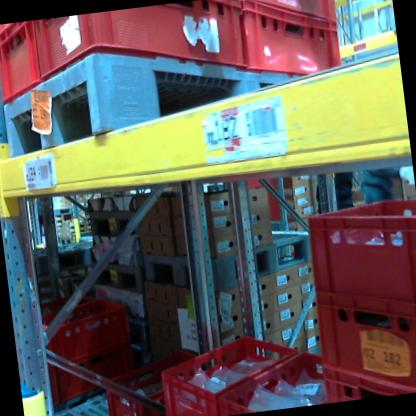pallet: (0, 27, 253, 172), (128, 224, 315, 307), (32, 236, 102, 281), (92, 258, 155, 304), (33, 202, 79, 220), (57, 234, 81, 250)
small_load_carrier: (32, 0, 247, 98), (298, 184, 416, 323), (158, 323, 301, 416), (313, 266, 416, 392), (232, 0, 355, 93), (211, 348, 347, 412), (44, 289, 133, 371), (97, 355, 193, 416), (56, 344, 151, 404), (318, 355, 416, 402), (237, 0, 336, 36), (0, 20, 41, 99), (21, 318, 58, 374), (142, 387, 186, 416)
